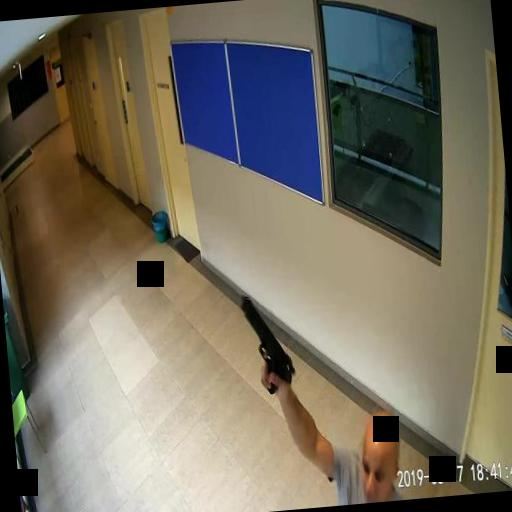Handgun: (238, 290, 294, 396)
